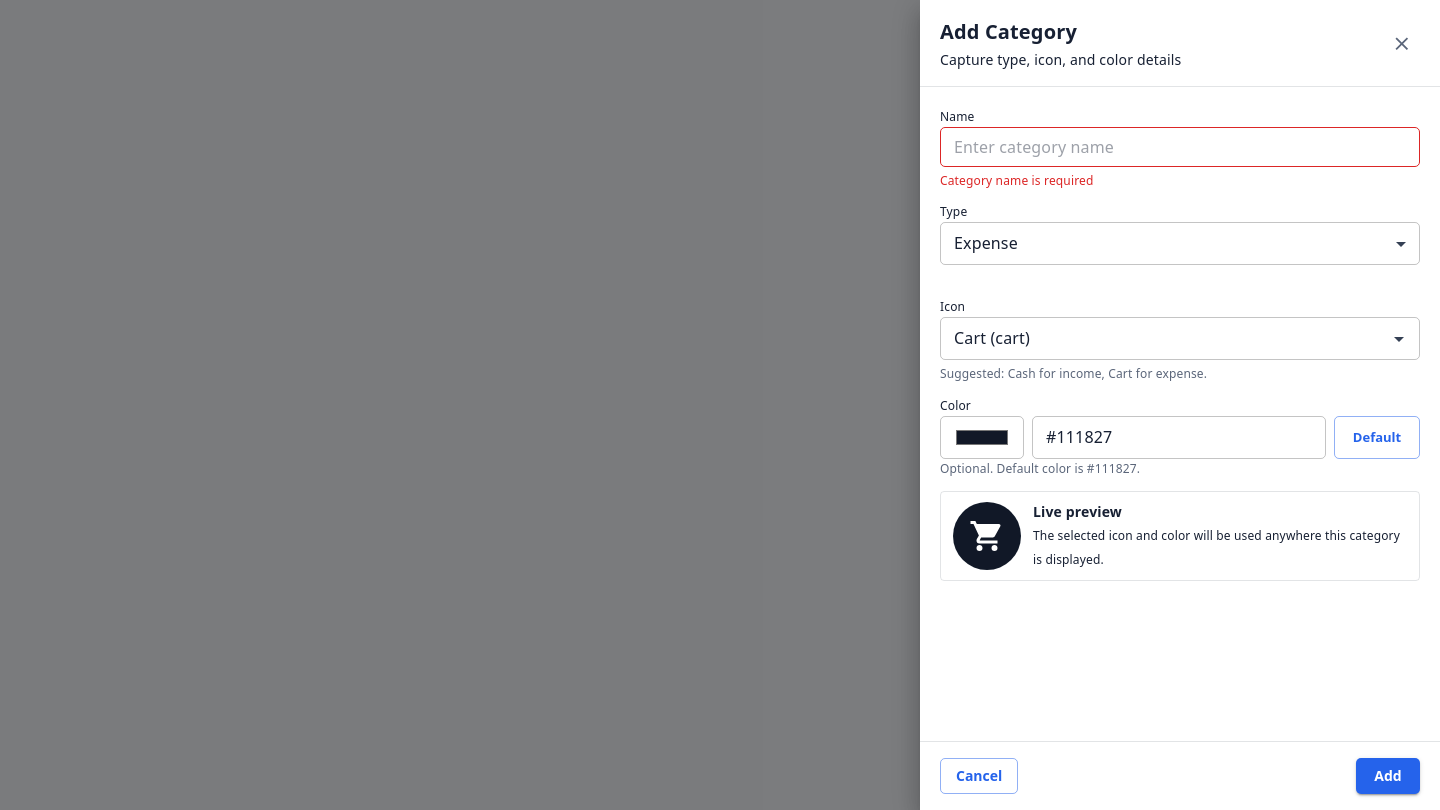
Test: CategoriesFormDrawer › shows submission errors and leaves entered form values intact
Type "Utilities" into the field labelled "name" at (1180, 147), box [940,127,1420,167]
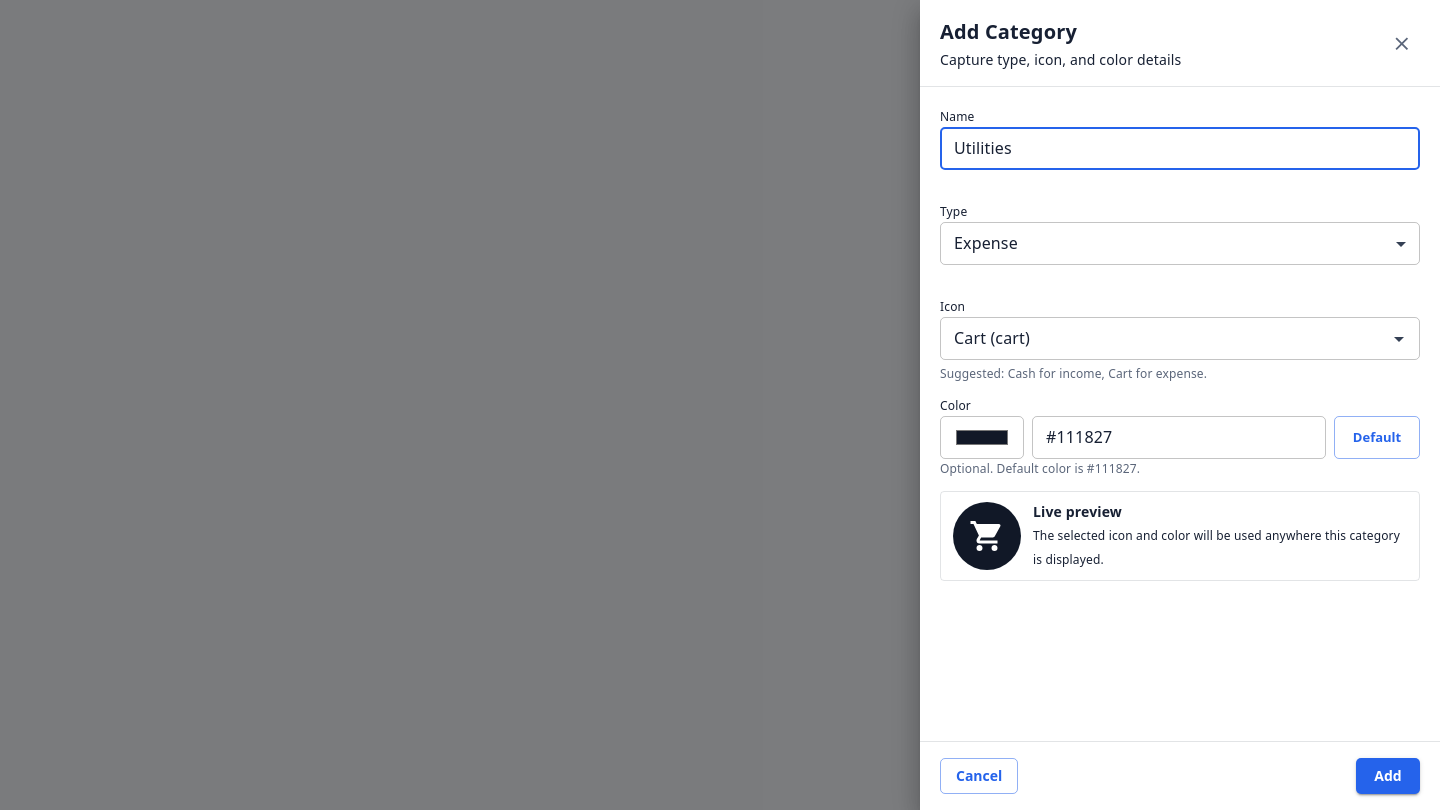
Click the button "Add" at (1388, 776), box [1356,758,1420,794]
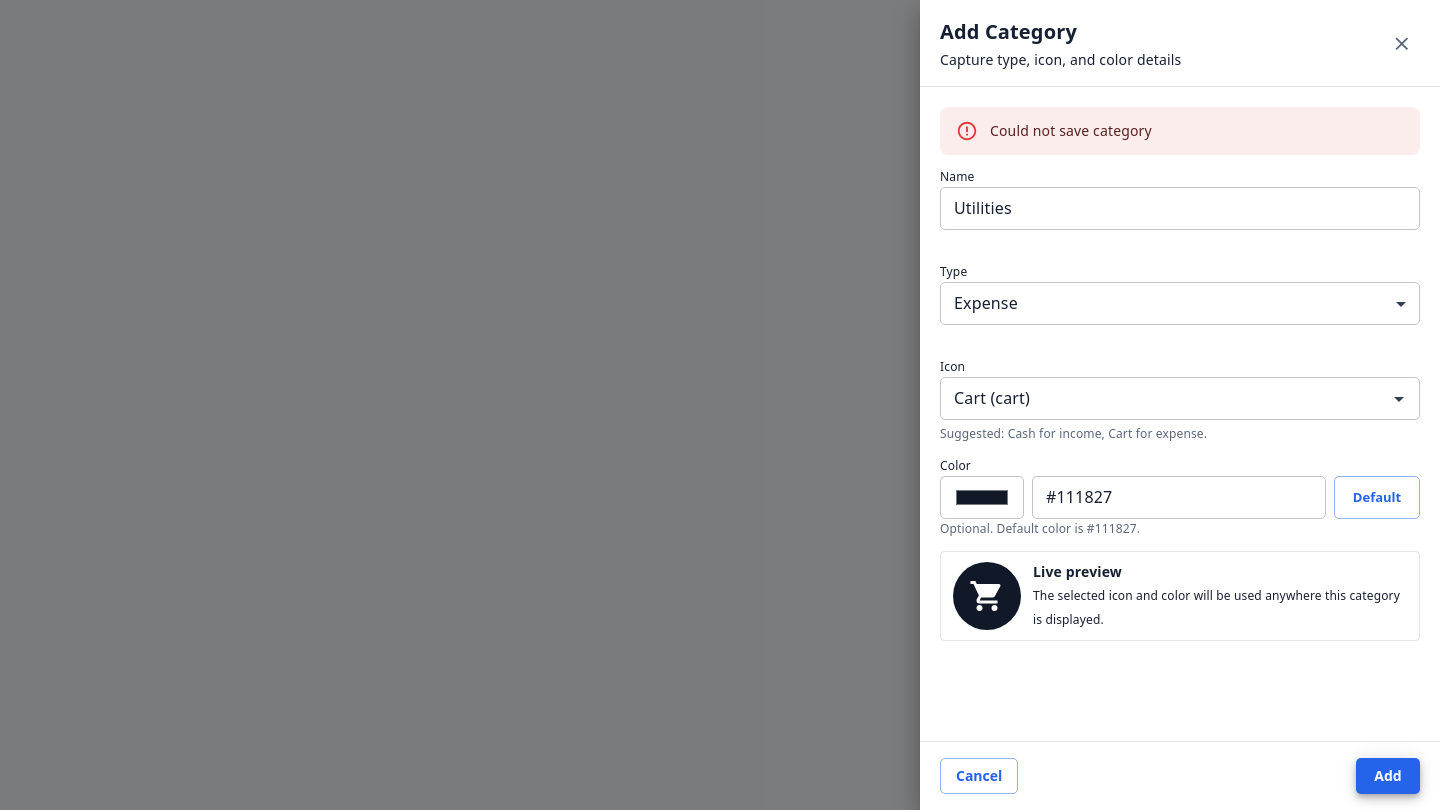
Expected: the text "Could not save category" is shown, [990,121,1152,140]
